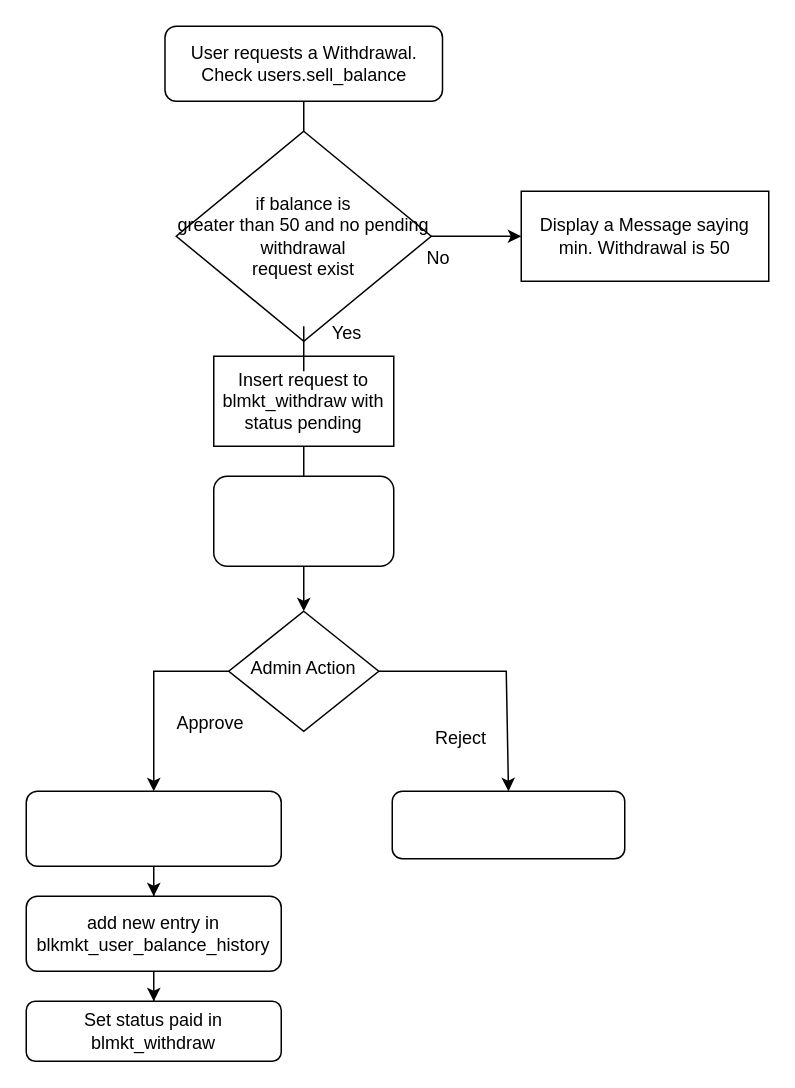
This 795x1088 diagram has some shape labels left out. The shapes that lost their labels are listed below. From the top down, each one's box as (x1, y1, x2, y2) in pixels, then its label:
(212, 475, 394, 566): Sent to admin for approval
(25, 790, 281, 866): Balance deducted from users.sell_balance
(391, 790, 625, 859): status updated in withdraw table
